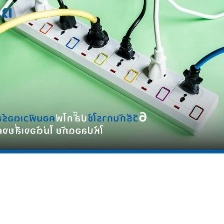three_eye_plug: (0, 0, 219, 137)
